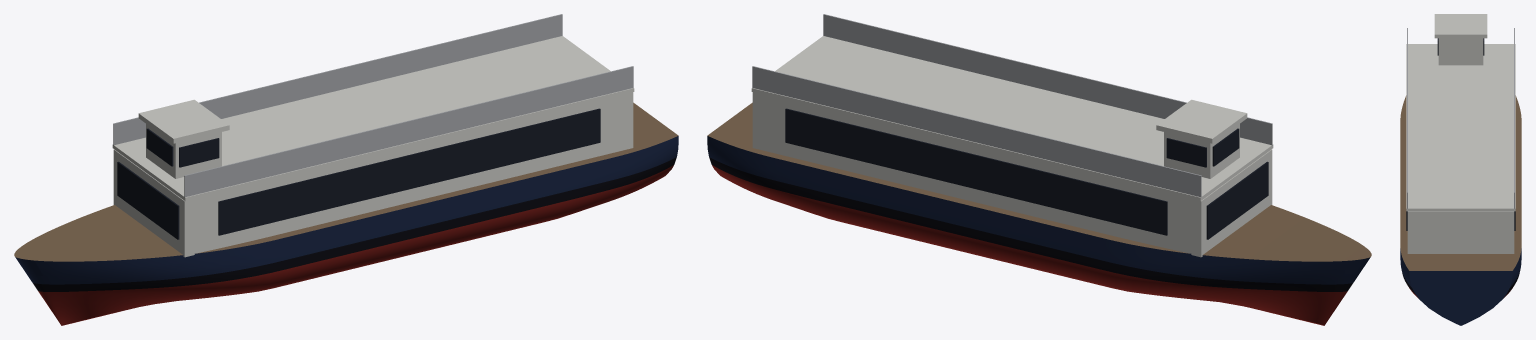
The model's file is tour_boat.glb.
3 views of the same model, side by side, from view 1: azimuth 30°, elevation 25°; view 2: azimuth 150°, elevation 25°; view 3: azimuth 270°, elevation 25° (orthographic). The views are drawn at different scales.
Visible parts, largest first — view 1: tour_boat; view 2: tour_boat; view 3: tour_boat.
Boxes of the visible parts, bbox=[...] form: tour_boat: bbox=[14, 14, 678, 325]; tour_boat: bbox=[707, 14, 1371, 325]; tour_boat: bbox=[1400, 14, 1521, 325].
Size of the model in its own units: 27 by 7.25 by 6.
